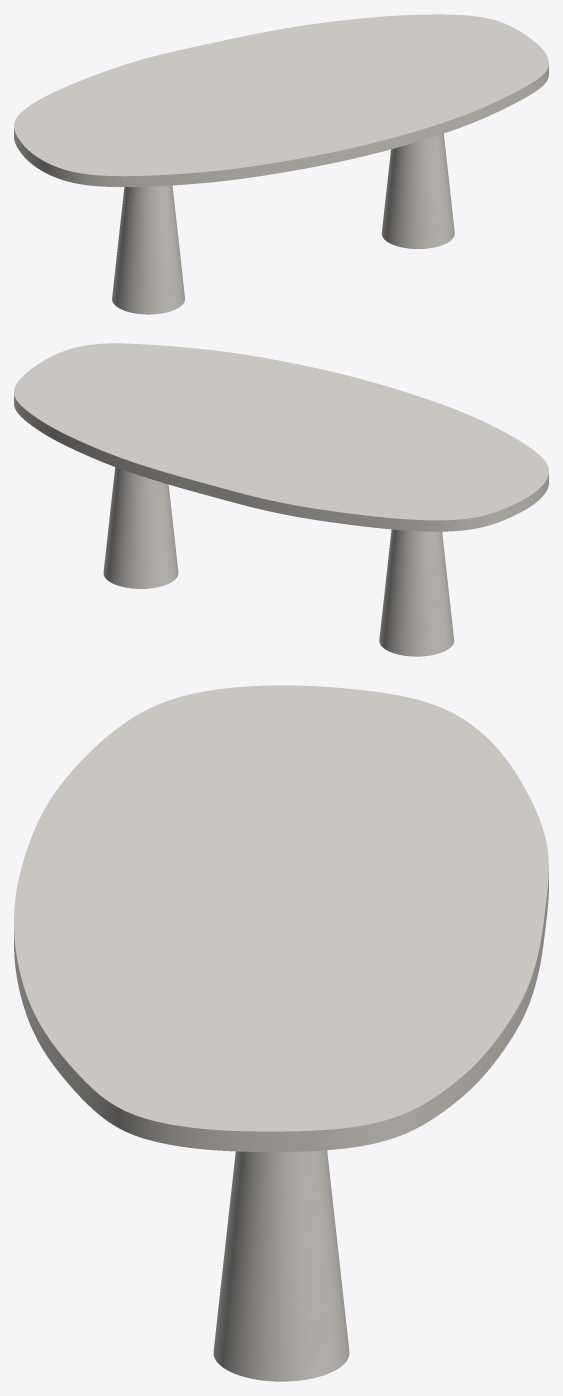
The model's file is pearlwhite_danish_standard_pebble.glb.
3 renders of one model, top to bottom at view 1: azimuth 30°, elevation 25°; view 2: azimuth 150°, elevation 25°; view 3: azimuth 270°, elevation 25°, orthographic. The views are drawn at different scales.
Visible parts, largest first — view 1: standard_danish, pebble; view 2: standard_danish, pebble; view 3: standard_danish, pebble.
Part boxes in pixels (x1,y1,x2,y2): standard_danish: [14, 14, 548, 186]; pebble: [112, 133, 454, 314]; standard_danish: [14, 343, 548, 531]; pebble: [103, 467, 454, 656]; standard_danish: [14, 685, 548, 1151]; pebble: [213, 1150, 349, 1381].
Size of the model in its own units: 7.5 by 2.5 by 3.8.
Materials: 1 (1 with a texture image).
